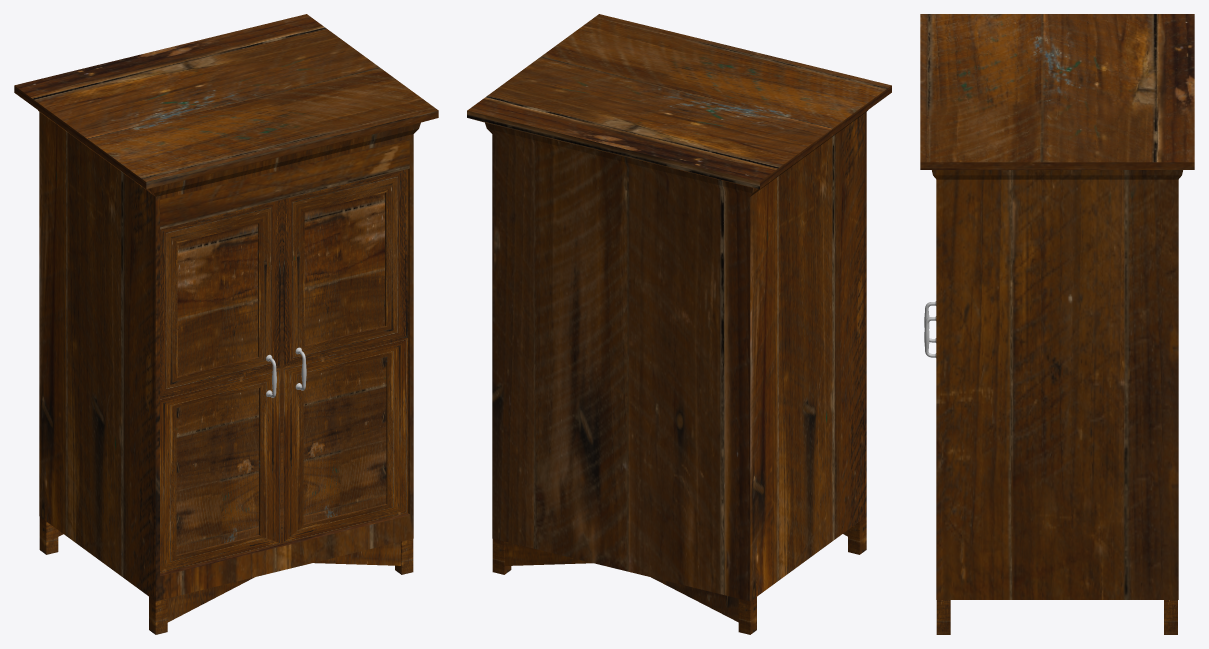
File: woodenwardrobe.fbx
3 renders of one model, left to right at view 1: azimuth 30°, elevation 25°; view 2: azimuth 150°, elevation 25°; view 3: azimuth 270°, elevation 25°, orthographic. The views are drawn at different scales.
Visible parts, largest first — view 1: クローゼット, ドア.002, ドア.003; view 2: クローゼット; view 3: クローゼット.
Part boxes in pixels (<box>): クローゼット: <box>14,14,438,634</box>; ドア.002: <box>282,169,408,543</box>; ドア.003: <box>160,200,281,573</box>; クローゼット: <box>467,14,891,634</box>; クローゼット: <box>920,14,1194,634</box>.
Bounding box in the file's own units: 167 × 253 × 131.
